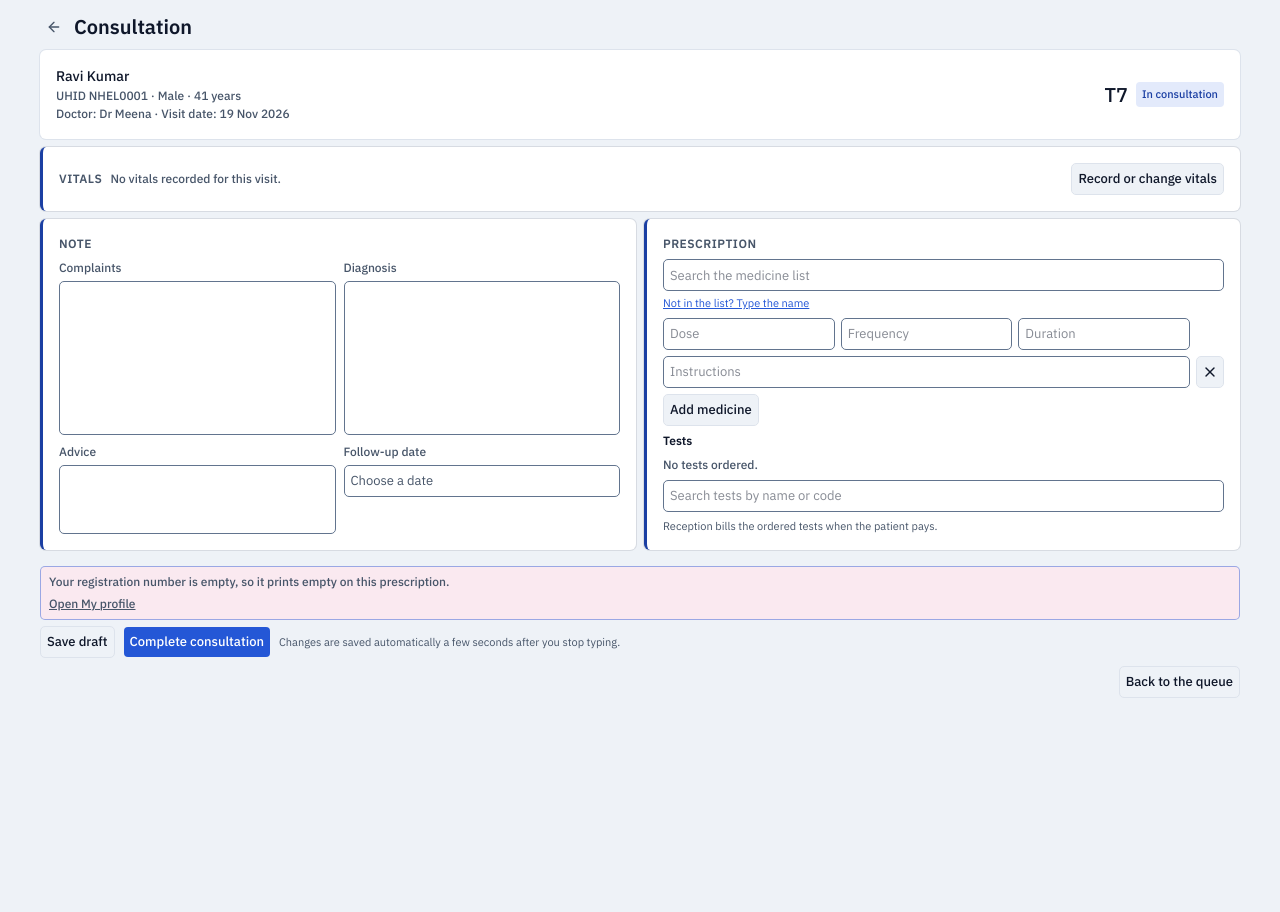
Test: doctor Tests box on the consultation screen › does not search below the minimum characters and shows a clear message when nothing matches
The image size is (1280, 912).
In the field named "Order a test": (944, 496) [663,480,1224,512], type "m"
Wait 400 ms
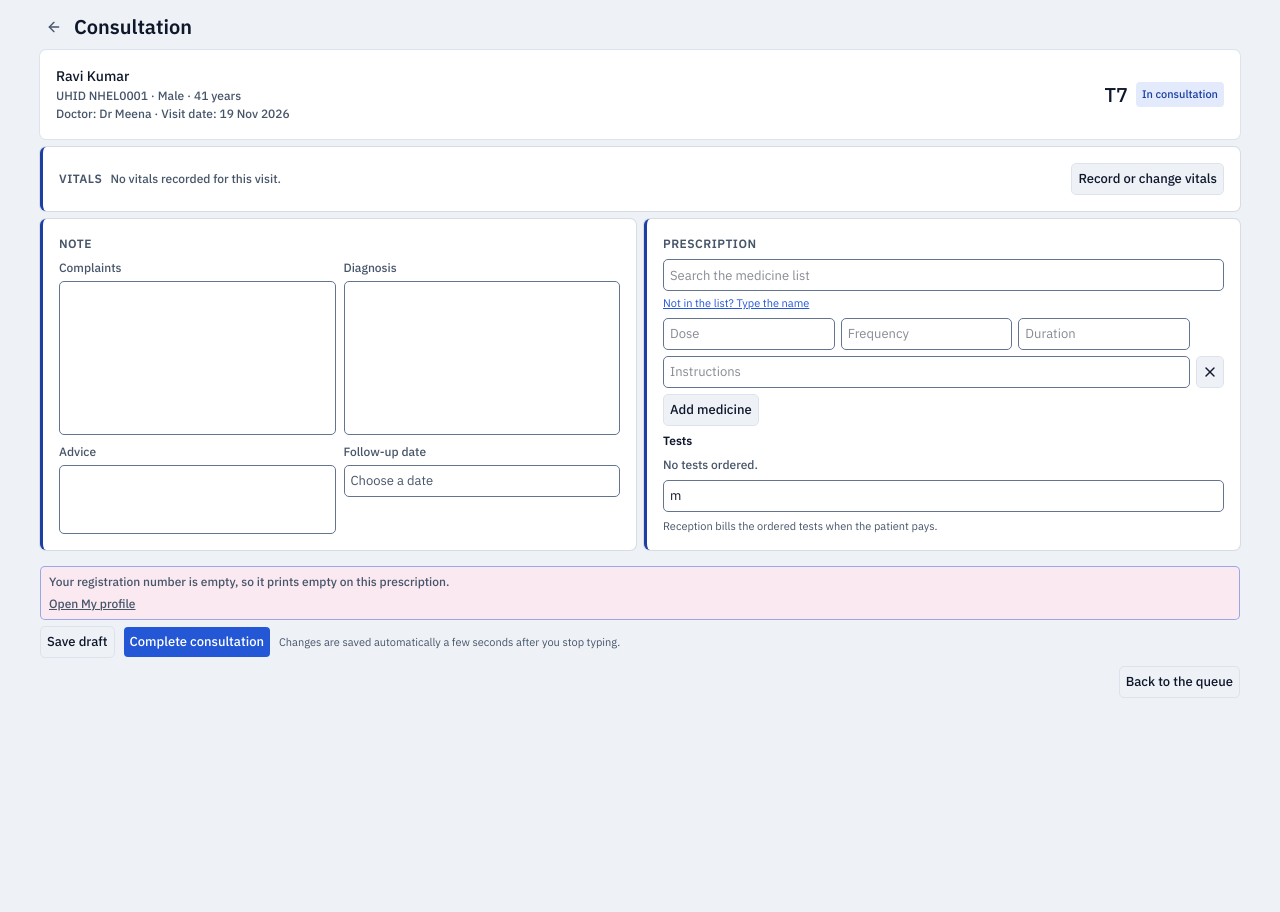
Replace the text in the field named "Order a test" with "zzz": (944, 496) [663,480,1224,512]
Wait 400 ms
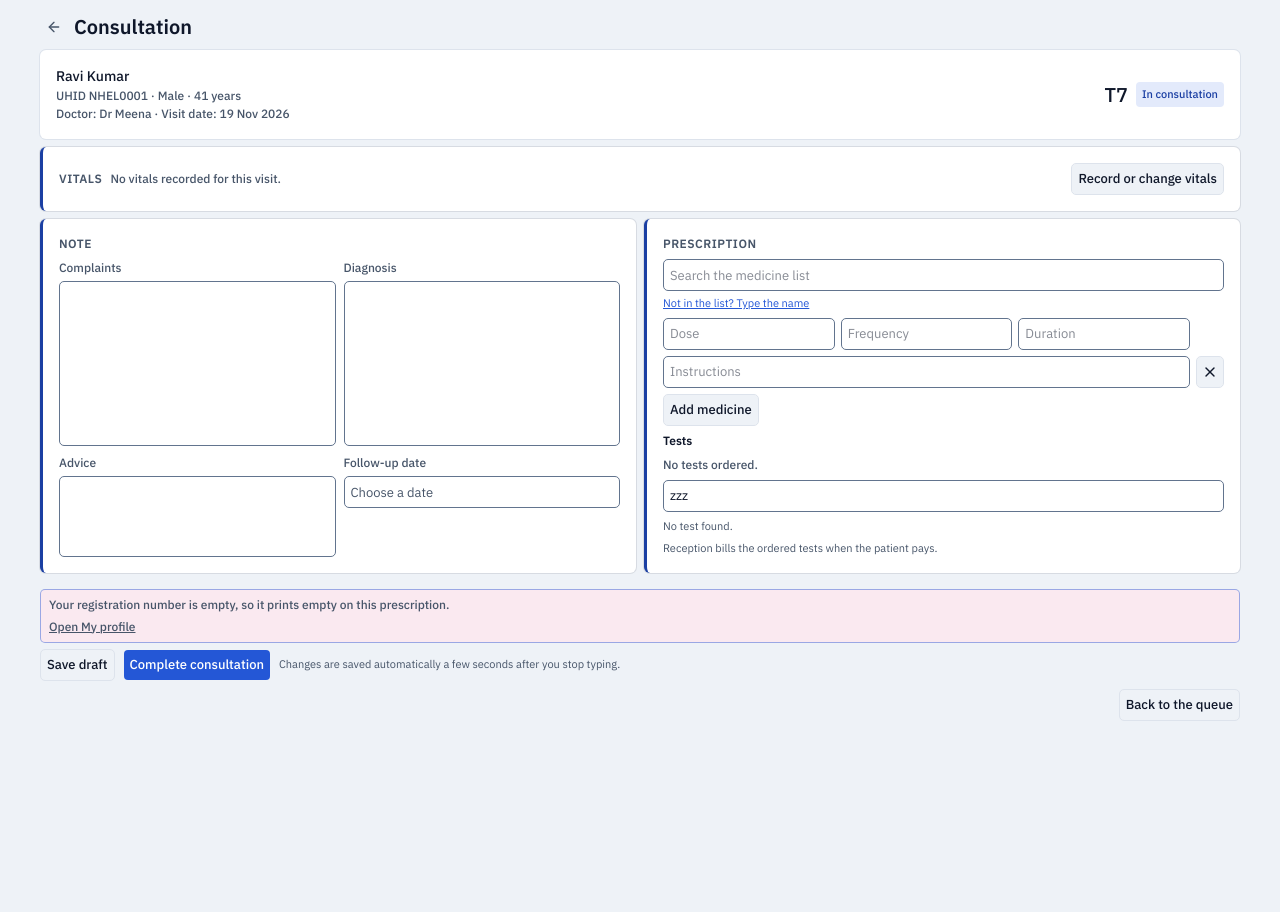
Check: the text "No test found." is shown, box [663,518,733,532]
